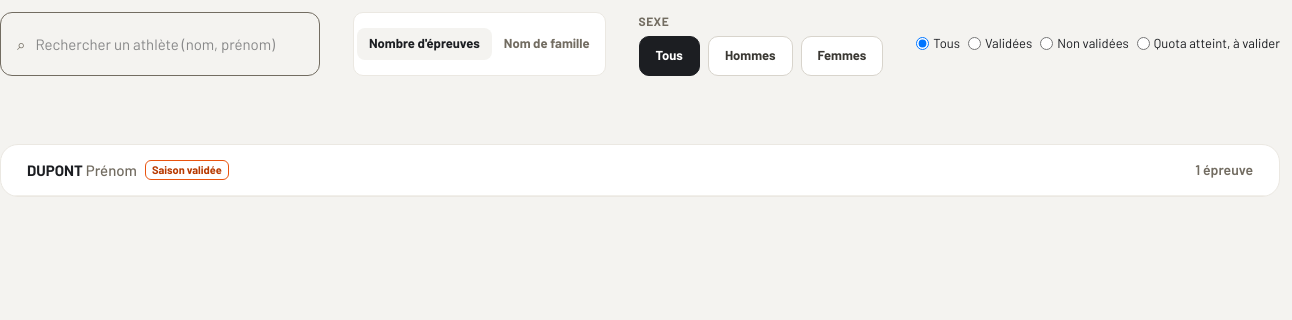
AthleteSeasonList › #1562 : une recherche qui ne trouve personne garde « Essayez un autre nom », même sous un statut
Click the radio button labelled "Non validées".
click(1047, 44)  # box left=1040, top=37, right=1053, bottom=50
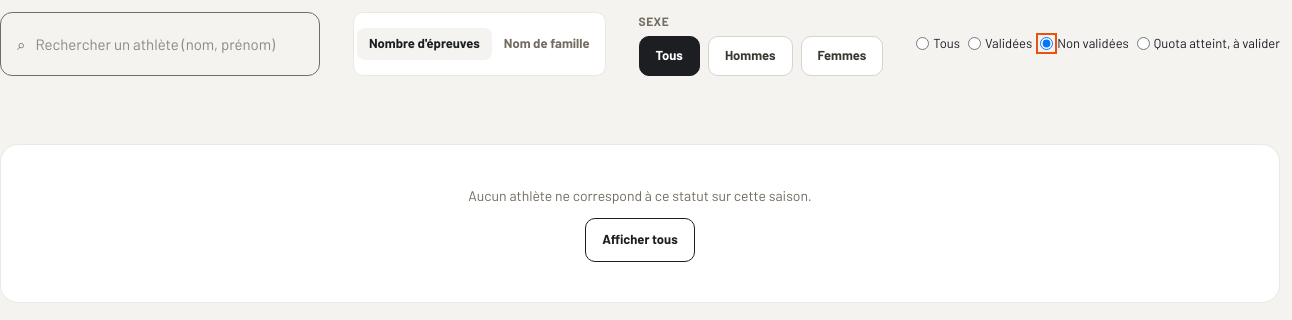
Type "Zorro" into the search field labelled "Rechercher un athlète (nom, prénom)".
click(169, 44); type("Zorro")  # box left=35, top=32, right=303, bottom=55
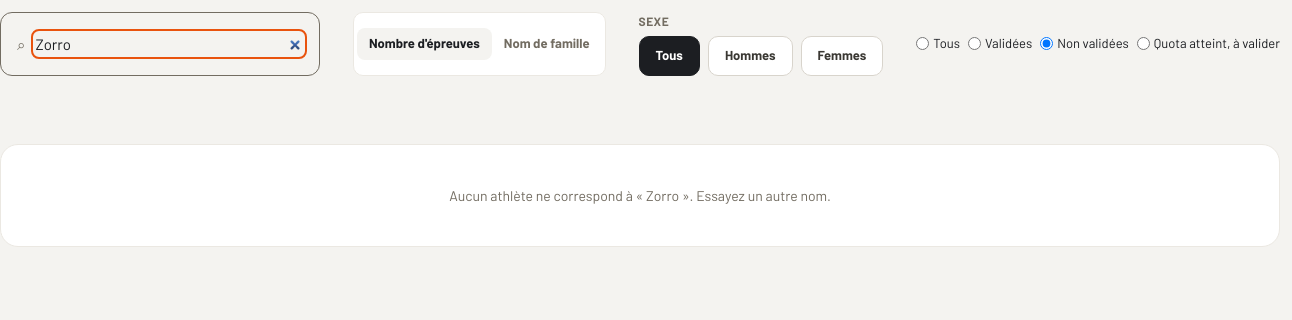
Now the text "Essayez un autre nom" is shown, box left=679, top=186, right=831, bottom=204
Now the button "Afficher tous" is gone
